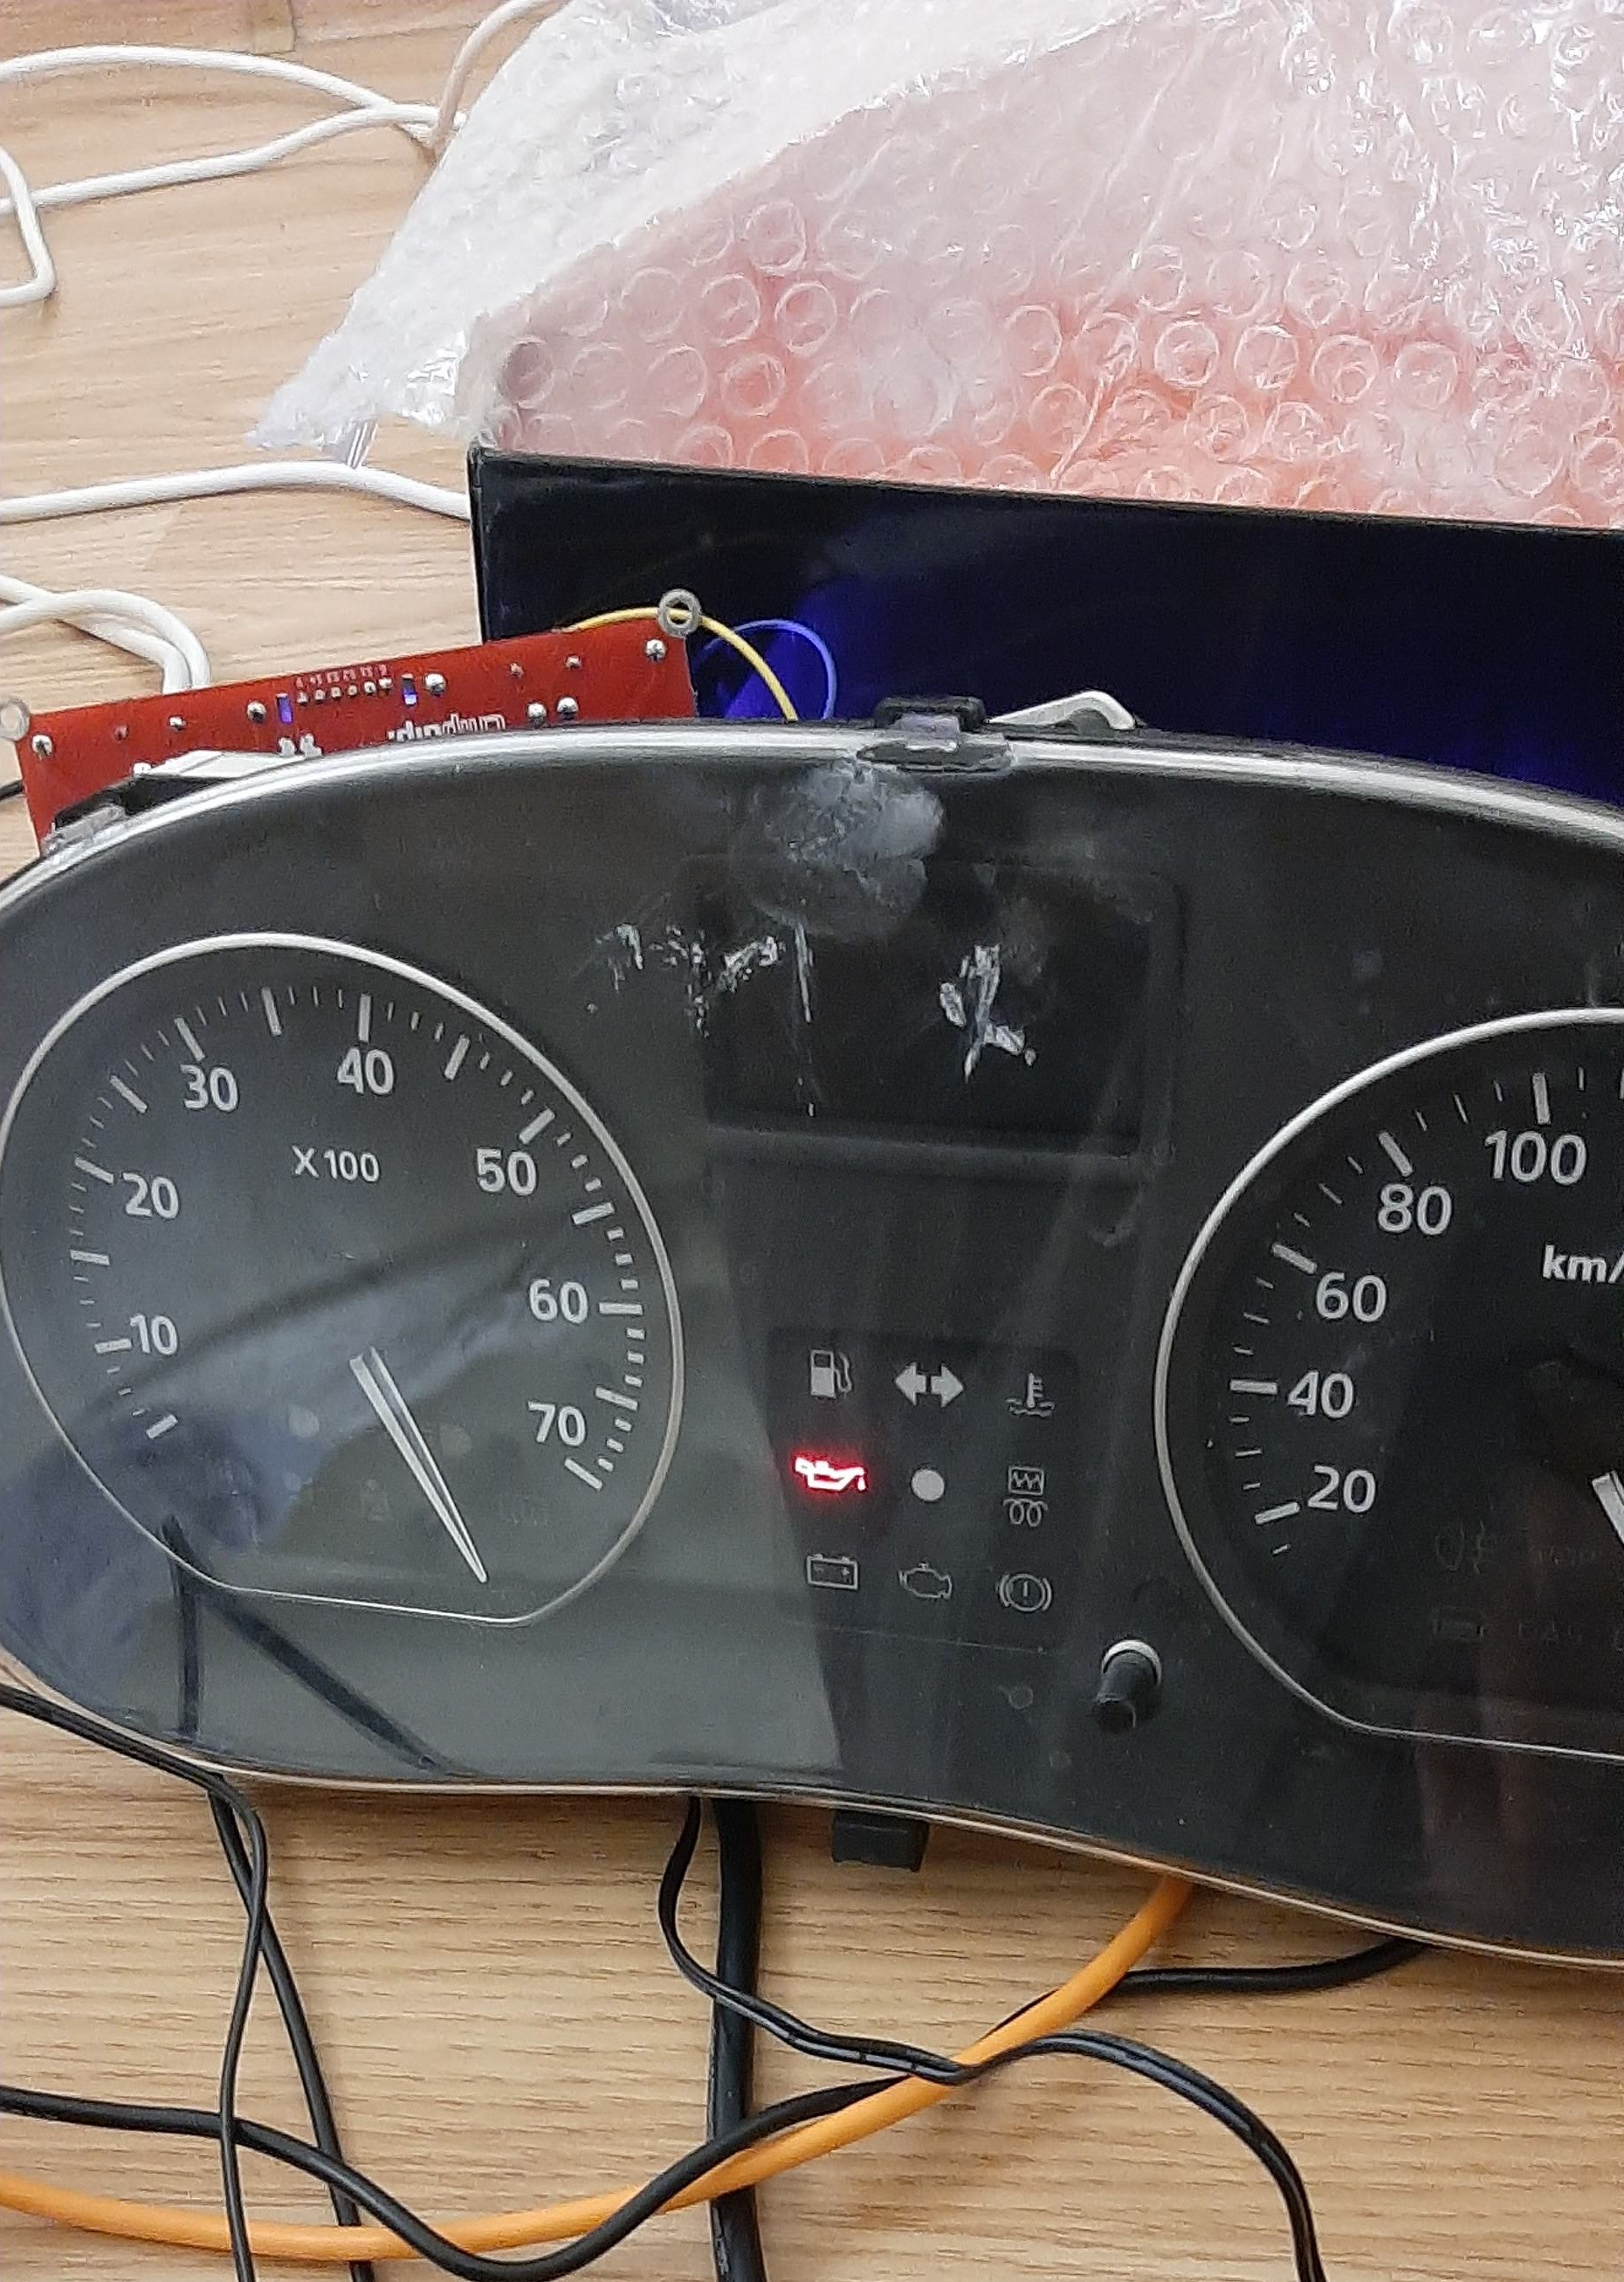oil27: (791, 1450, 868, 1498)
